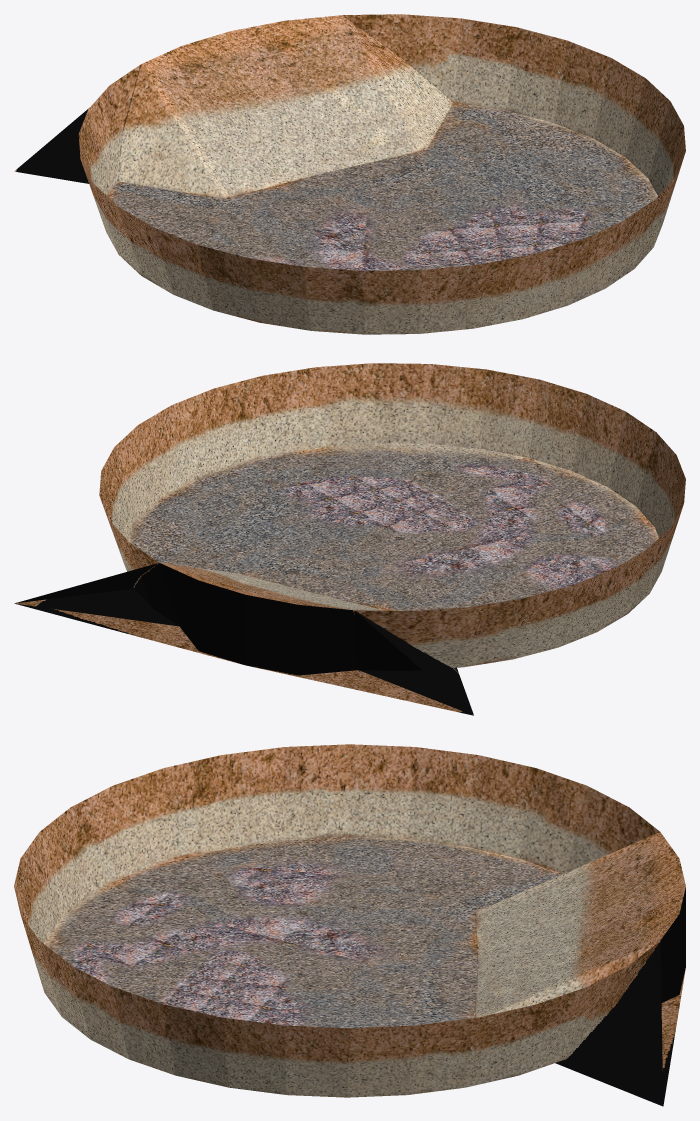
Rendered from mina.obj.
3 views of the same model, one above another, from view 1: azimuth 30°, elevation 25°; view 2: azimuth 150°, elevation 25°; view 3: azimuth 270°, elevation 25° (orthographic). The views are drawn at different scales.
Parts seen in each view (by area): view 1: Plane; view 2: Plane; view 3: Plane.
Boxes of the visible parts, <box> form: Plane: <box>14,14,685,334</box>; Plane: <box>14,363,685,715</box>; Plane: <box>14,744,685,1106</box>.
Bounding box in the file's own units: 4.56 × 0.6423 × 4.56.
1 material, 1 textured.
